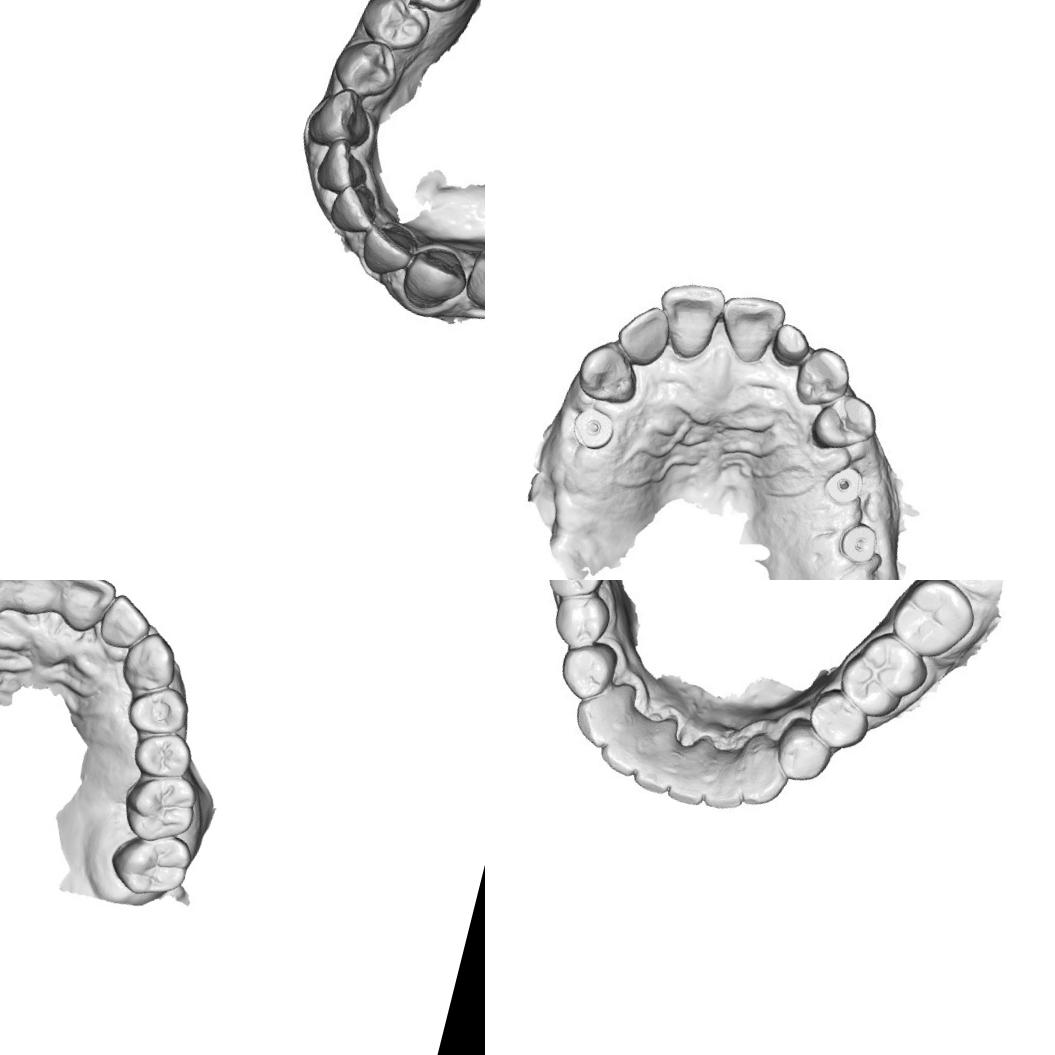canine: (395, 232, 476, 319), (566, 677, 638, 755), (572, 334, 646, 409), (302, 81, 376, 155), (115, 625, 184, 698), (790, 341, 858, 413), (733, 737, 796, 812)
implant: (564, 401, 620, 456), (838, 518, 884, 572), (821, 460, 867, 506)
incisor: (648, 274, 730, 366), (711, 286, 788, 368), (609, 298, 677, 372), (354, 210, 421, 282), (94, 589, 158, 656), (312, 136, 373, 202), (53, 580, 120, 639), (324, 177, 385, 239), (593, 720, 653, 780), (662, 754, 720, 812), (626, 746, 682, 799), (701, 756, 753, 812), (0, 580, 69, 621), (765, 316, 815, 370)
molar: (834, 625, 932, 724), (886, 580, 982, 664), (114, 763, 204, 851), (103, 822, 198, 905), (534, 580, 617, 608)
premolar: (328, 28, 405, 106), (805, 385, 883, 460), (551, 633, 622, 708), (120, 676, 196, 742), (546, 586, 617, 655), (804, 686, 874, 753), (128, 724, 199, 786), (355, 0, 432, 56), (773, 718, 836, 786), (463, 237, 485, 318)
